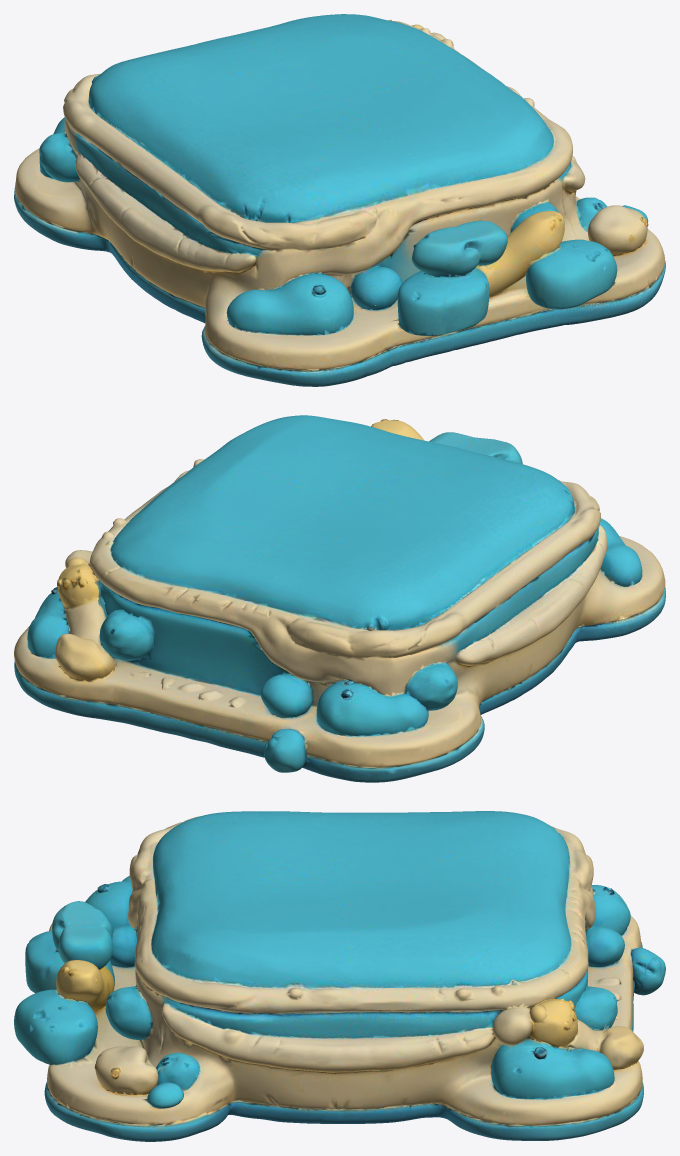
File: env_nest_cake_02.glb
3 renders of one model, top to bottom at view 1: azimuth 30°, elevation 25°; view 2: azimuth 150°, elevation 25°; view 3: azimuth 270°, elevation 25°, orthographic. The views are drawn at different scales.
Visible parts, largest first — view 1: tripo_node_9a83c54c-5fd2-4ad6-8278-41bccb1dd288; view 2: tripo_node_9a83c54c-5fd2-4ad6-8278-41bccb1dd288; view 3: tripo_node_9a83c54c-5fd2-4ad6-8278-41bccb1dd288.
Part boxes in pixels (left/top/right/bottom): tripo_node_9a83c54c-5fd2-4ad6-8278-41bccb1dd288: left=14, top=14, right=665, bottom=386; tripo_node_9a83c54c-5fd2-4ad6-8278-41bccb1dd288: left=14, top=415, right=665, bottom=782; tripo_node_9a83c54c-5fd2-4ad6-8278-41bccb1dd288: left=14, top=811, right=665, bottom=1141.
Size of the model in its own units: 3.58 by 1.2 by 4.44.
Materials: 1 (1 with a texture image).
